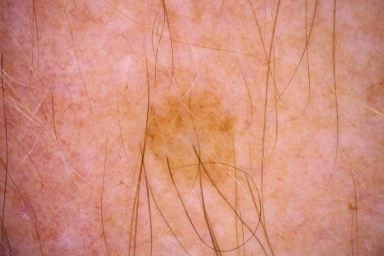melanoma: (143, 91, 234, 193)
